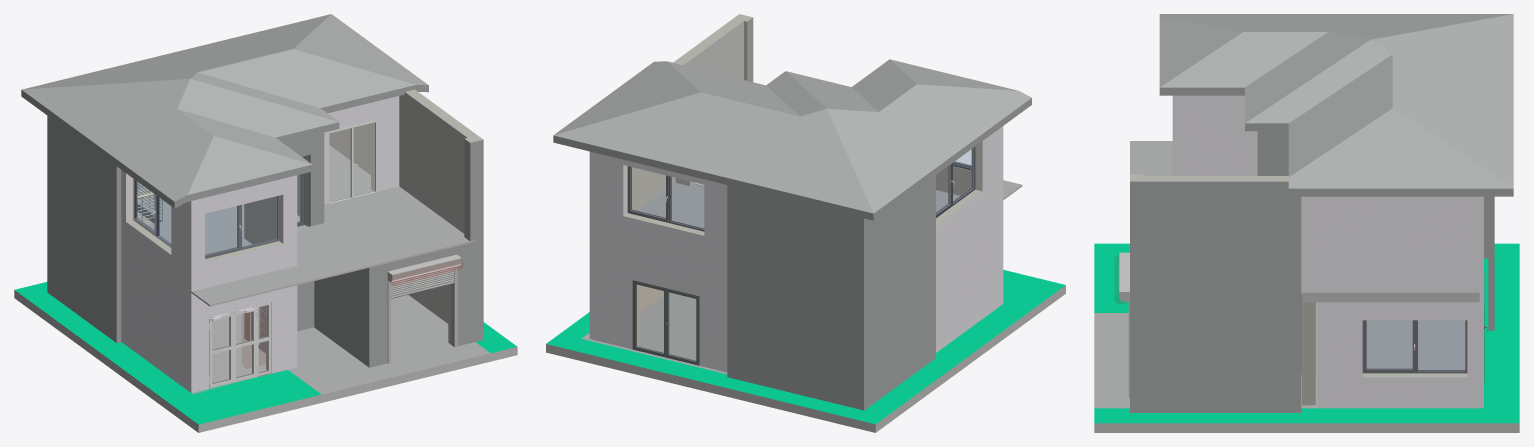
The model's file is house.glb.
3 views of the same model, side by side, from view 1: azimuth 30°, elevation 25°; view 2: azimuth 150°, elevation 25°; view 3: azimuth 270°, elevation 25° (orthographic). The views are drawn at different scales.
Parts seen in each view (by area): view 1: Wall Murs <274080 Ext. Parpaing 20 + Isolant 10<, FamilyInstance Portes Aluprof_BGR-SK_E_Alu_Garage-Door-Box-2; view 2: Wall Murs <274080 Ext. Parpaing 20 + Isolant 10<, FamilyInstance Portes Aluprof_BGR-SK_E_Alu_Garage-Door-Box-2; view 3: Wall Murs <274080 Ext. Parpaing 20 + Isolant 10<.
Part boxes in pixels (left/top/right/bottom): Wall Murs <274080 Ext. Parpaing 20 + Isolant 10<: left=14, top=14, right=517, bottom=432; FamilyInstance Portes Aluprof_BGR-SK_E_Alu_Garage-Door-Box-2: left=241, top=122, right=374, bottom=369; Wall Murs <274080 Ext. Parpaing 20 + Isolant 10<: left=546, top=14, right=1065, bottom=432; FamilyInstance Portes Aluprof_BGR-SK_E_Alu_Garage-Door-Box-2: left=636, top=149, right=971, bottom=360; Wall Murs <274080 Ext. Parpaing 20 + Isolant 10<: left=1094, top=14, right=1519, bottom=432.
Size of the model in its own units: 10000 by 7170 by 10000.
2 materials, 2 textured.
